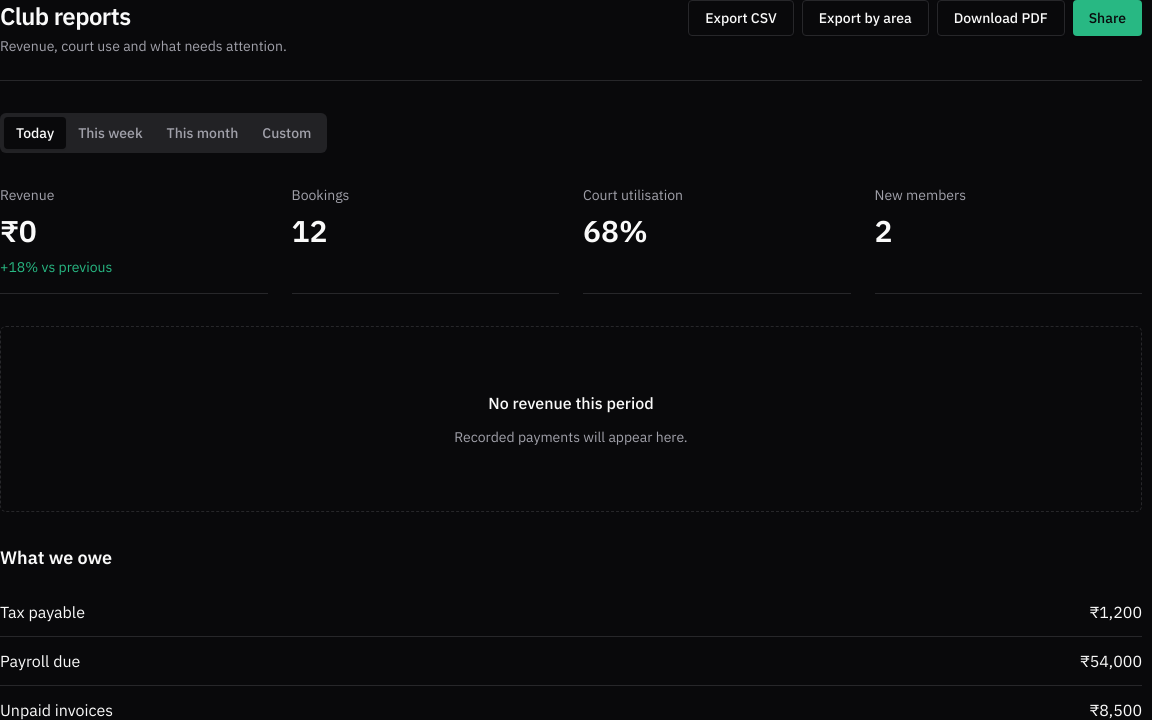
Test: owner reports › shows an empty revenue period and share failure
Check: the text "No revenue this period" is shown, box left=488, top=391, right=654, bottom=415
What coordinates should you click on to do the following:
click the button "Share"
I would click on:
 (1107, 18)
Its box is left=1073, top=0, right=1142, bottom=36.
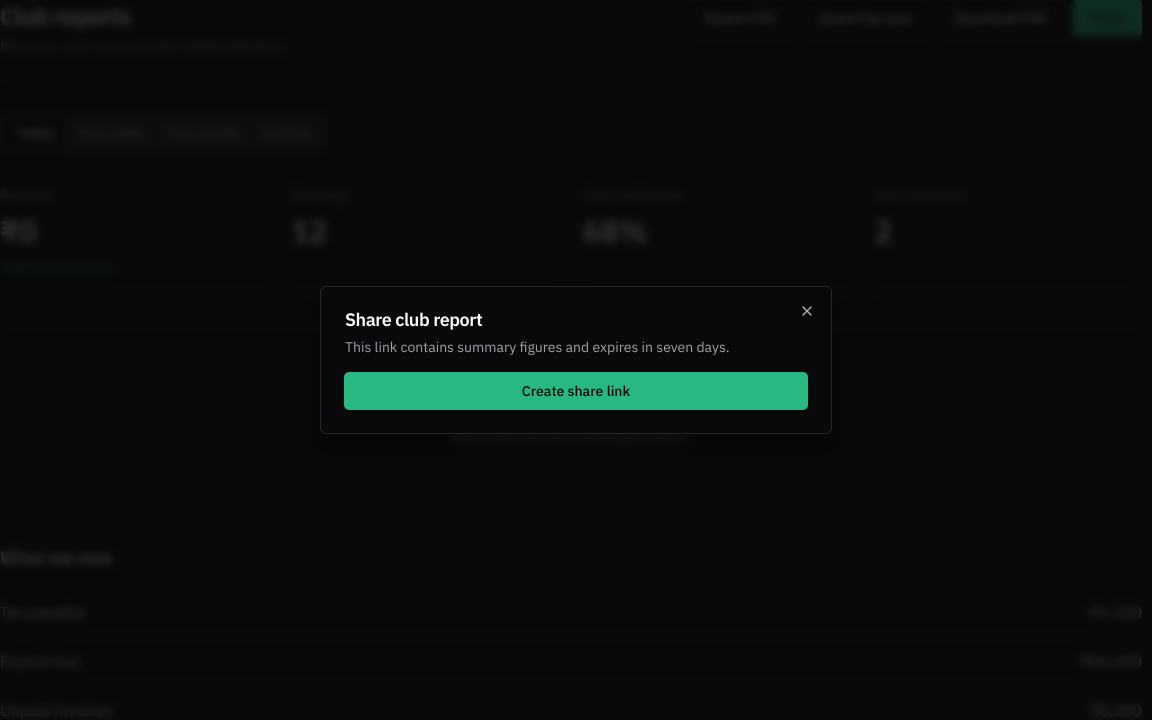
What coordinates should you click on to do the following:
click the button "Create share link"
I would click on:
 (576, 391)
Its box is left=345, top=373, right=807, bottom=409.
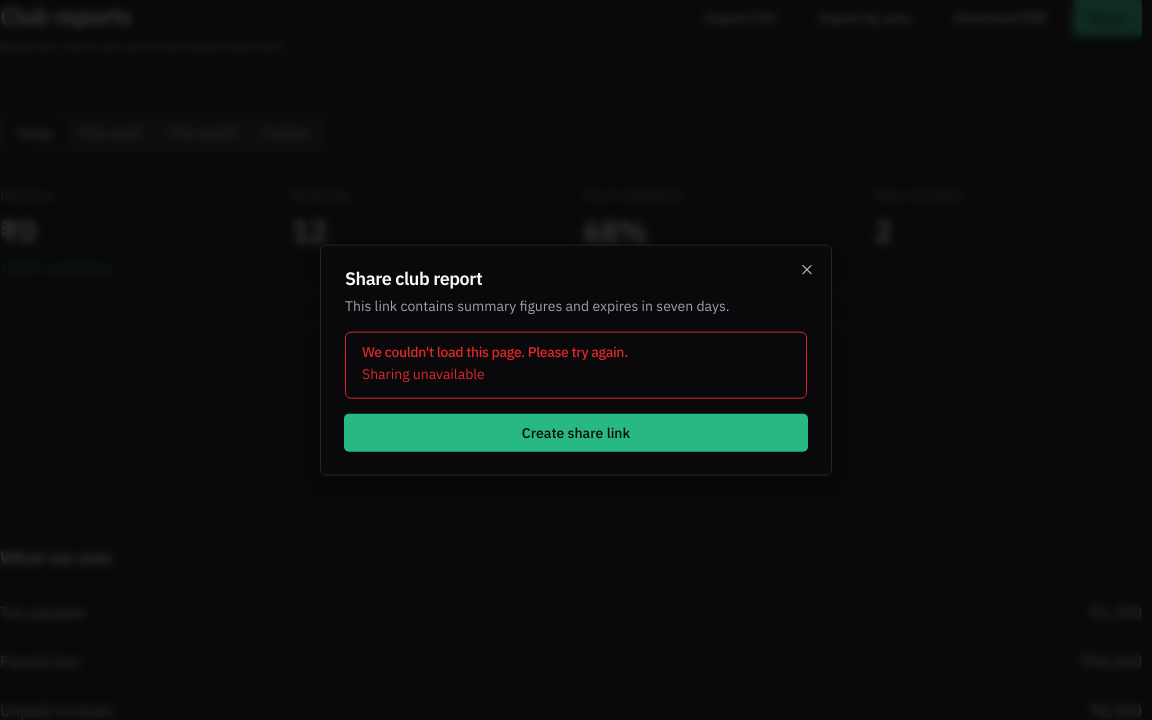
Check: the text "Sharing unavailable" is shown, box left=362, top=365, right=485, bottom=383
